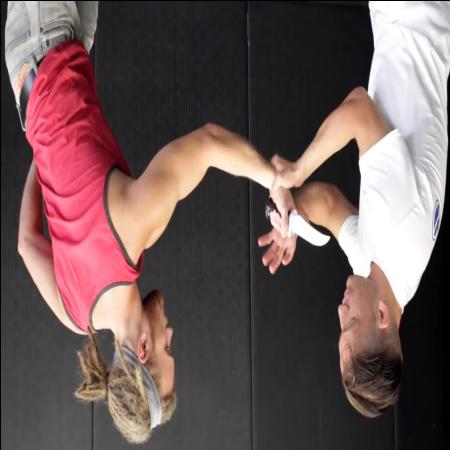long weapon: (261, 190, 333, 257)
